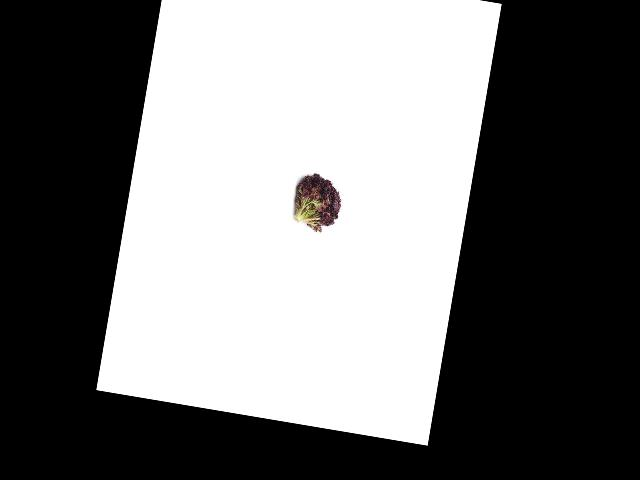lettuce: (287, 167, 347, 232)
